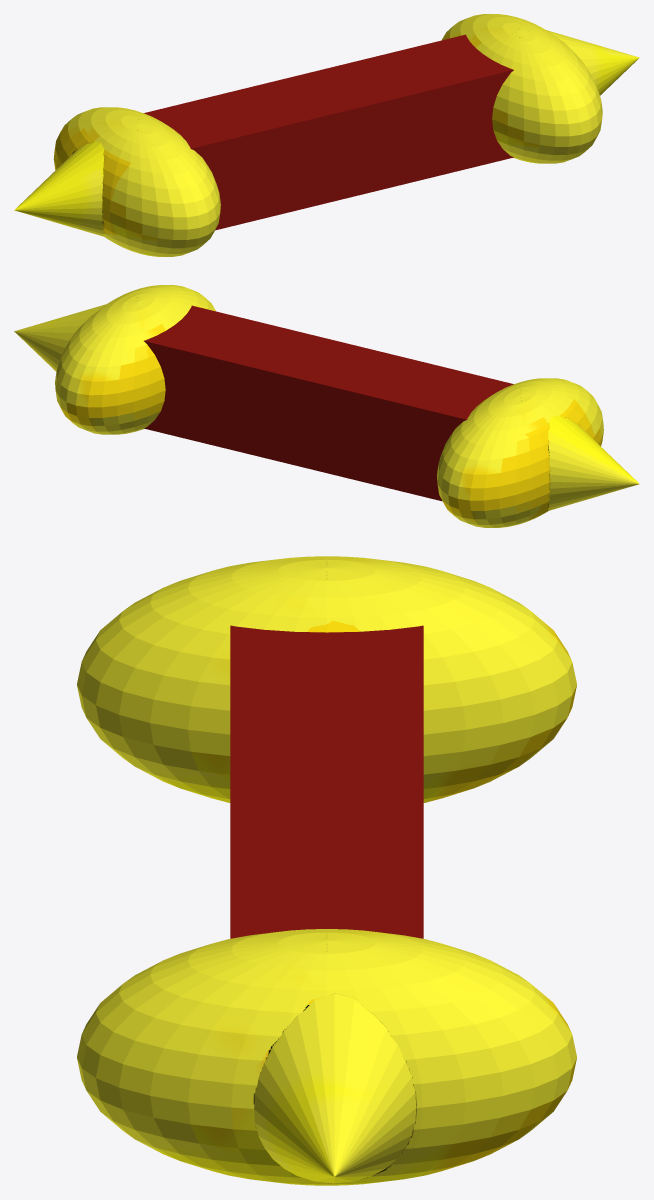
File: needle_Weapon.obj
The picture shows the model from 3 angles, top to bottom: view 1: azimuth 30°, elevation 25°; view 2: azimuth 150°, elevation 25°; view 3: azimuth 270°, elevation 25°; orthographic projection. The views are drawn at different scales.
Parts seen in each view (by area): view 1: 球.001; view 2: 球.001; view 3: 球.001.
Boxes of the visible parts, left/top/right/bottom form: 球.001: left=14, top=14, right=639, bottom=256; 球.001: left=14, top=285, right=639, bottom=527; 球.001: left=77, top=556, right=576, bottom=1185.
Size of the model in its own units: 2.97 by 0.5275 by 1.03.
Materials: 1 (1 with a texture image).
